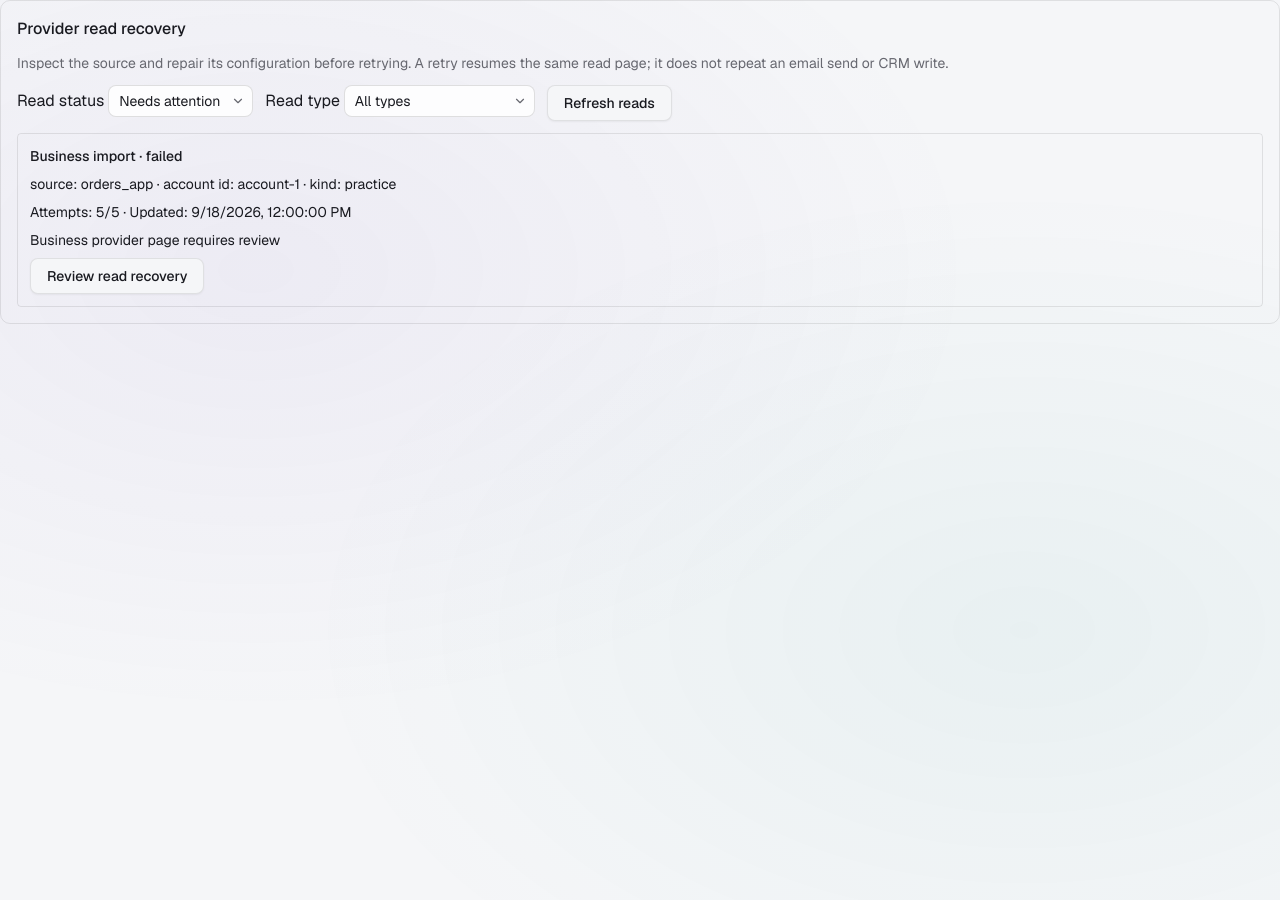
Test: retries only the selected inactive read and records the operator's repair reason
Click the button "Review read recovery". click: click(117, 276)
box: [30,258,204,294]
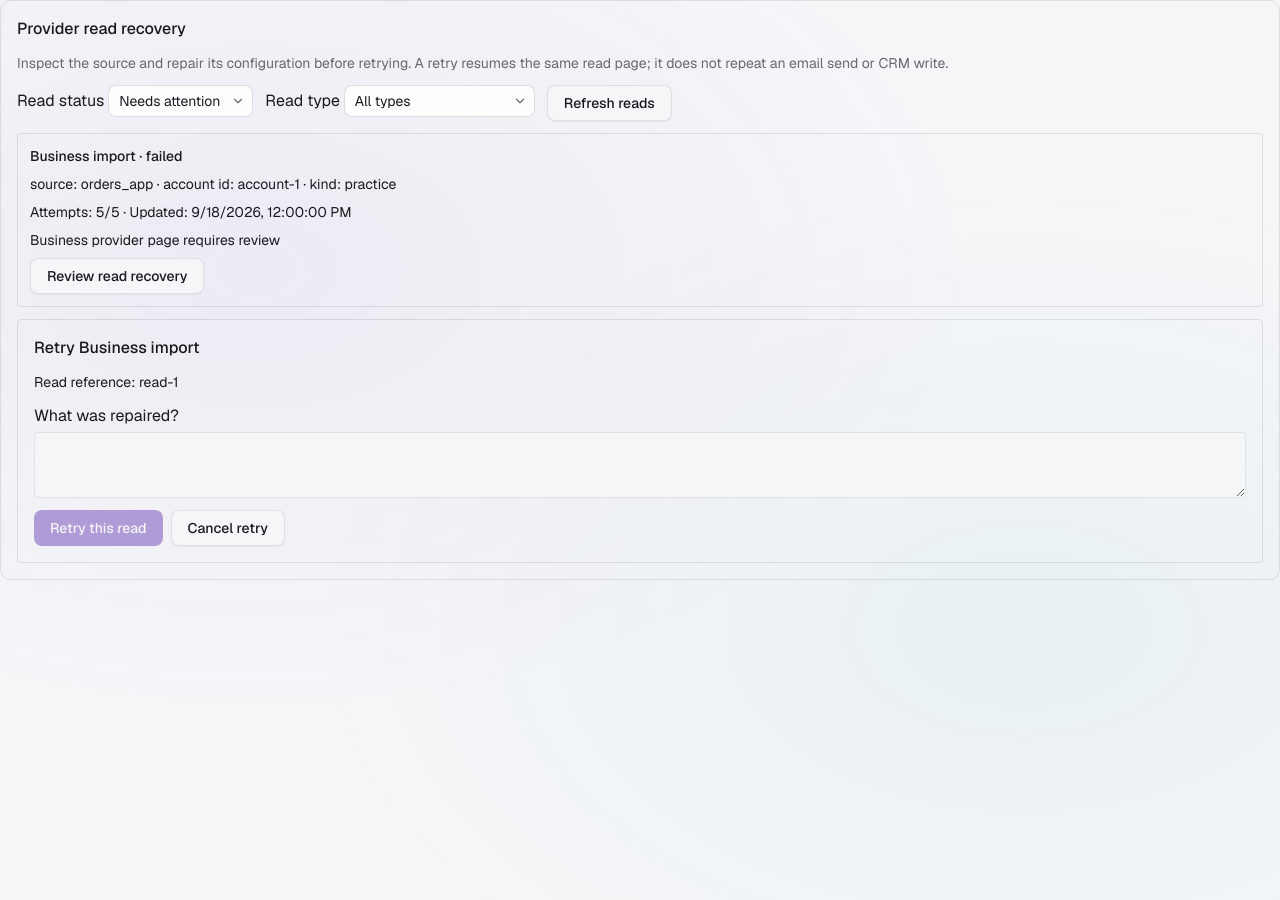
Check: the button "Retry this read" is disabled, box [34,510,163,546]
Type "Verified and repaired the scoped source account" into the text box labelled "What was repaired?". click: (640, 465)
box: [34,432,1246,498]
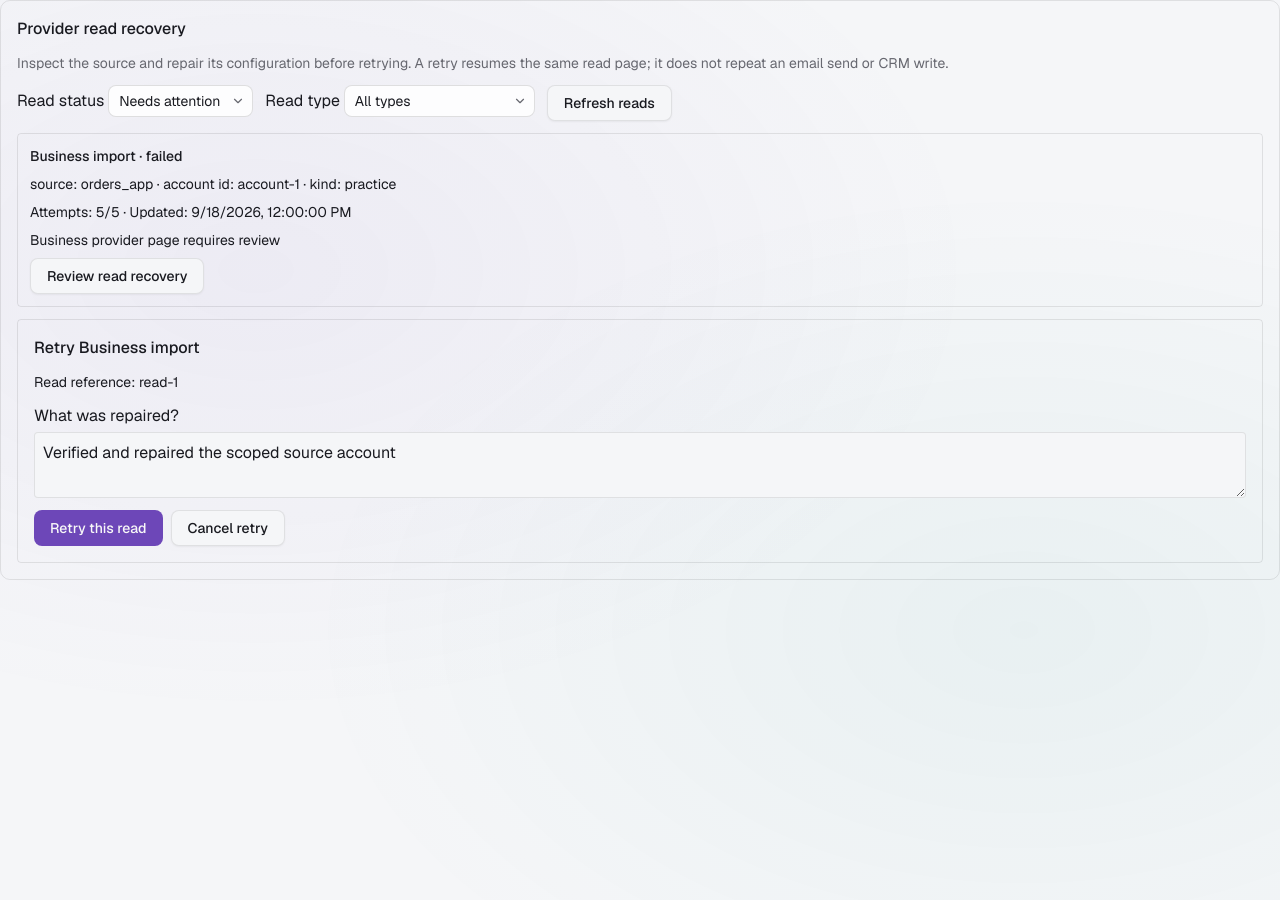
Click the button "Retry this read". click: click(98, 528)
box: [34,510,163,546]
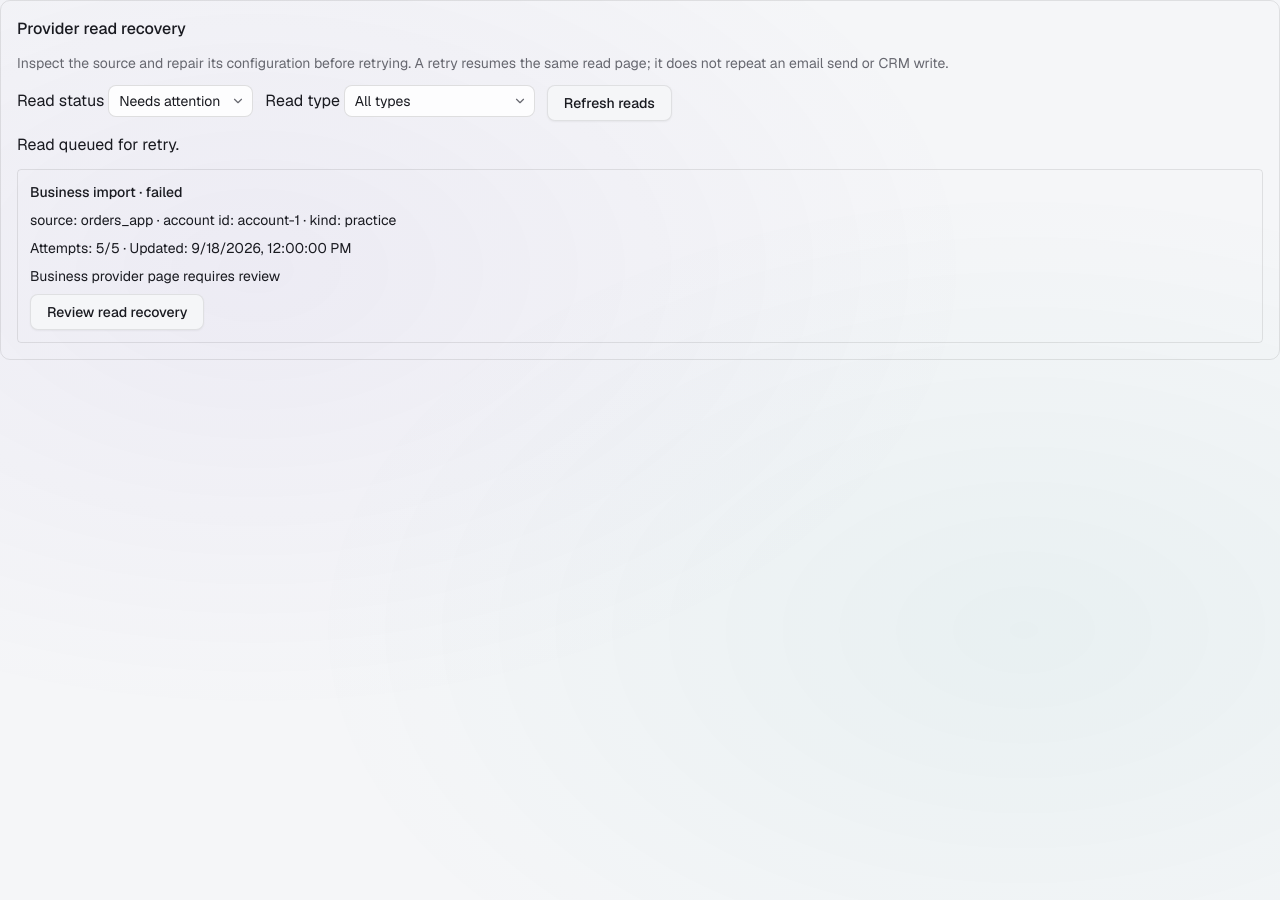
Check: the message shows "Read queued for retry", box [17,134,179,155]
